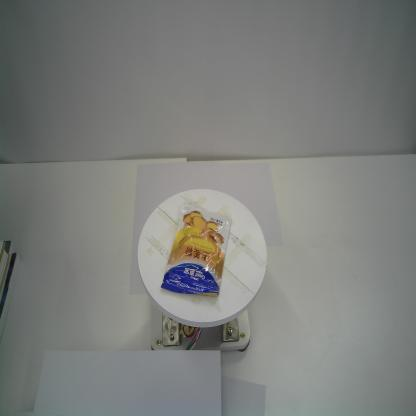Seasoner: (160, 202, 232, 299)
